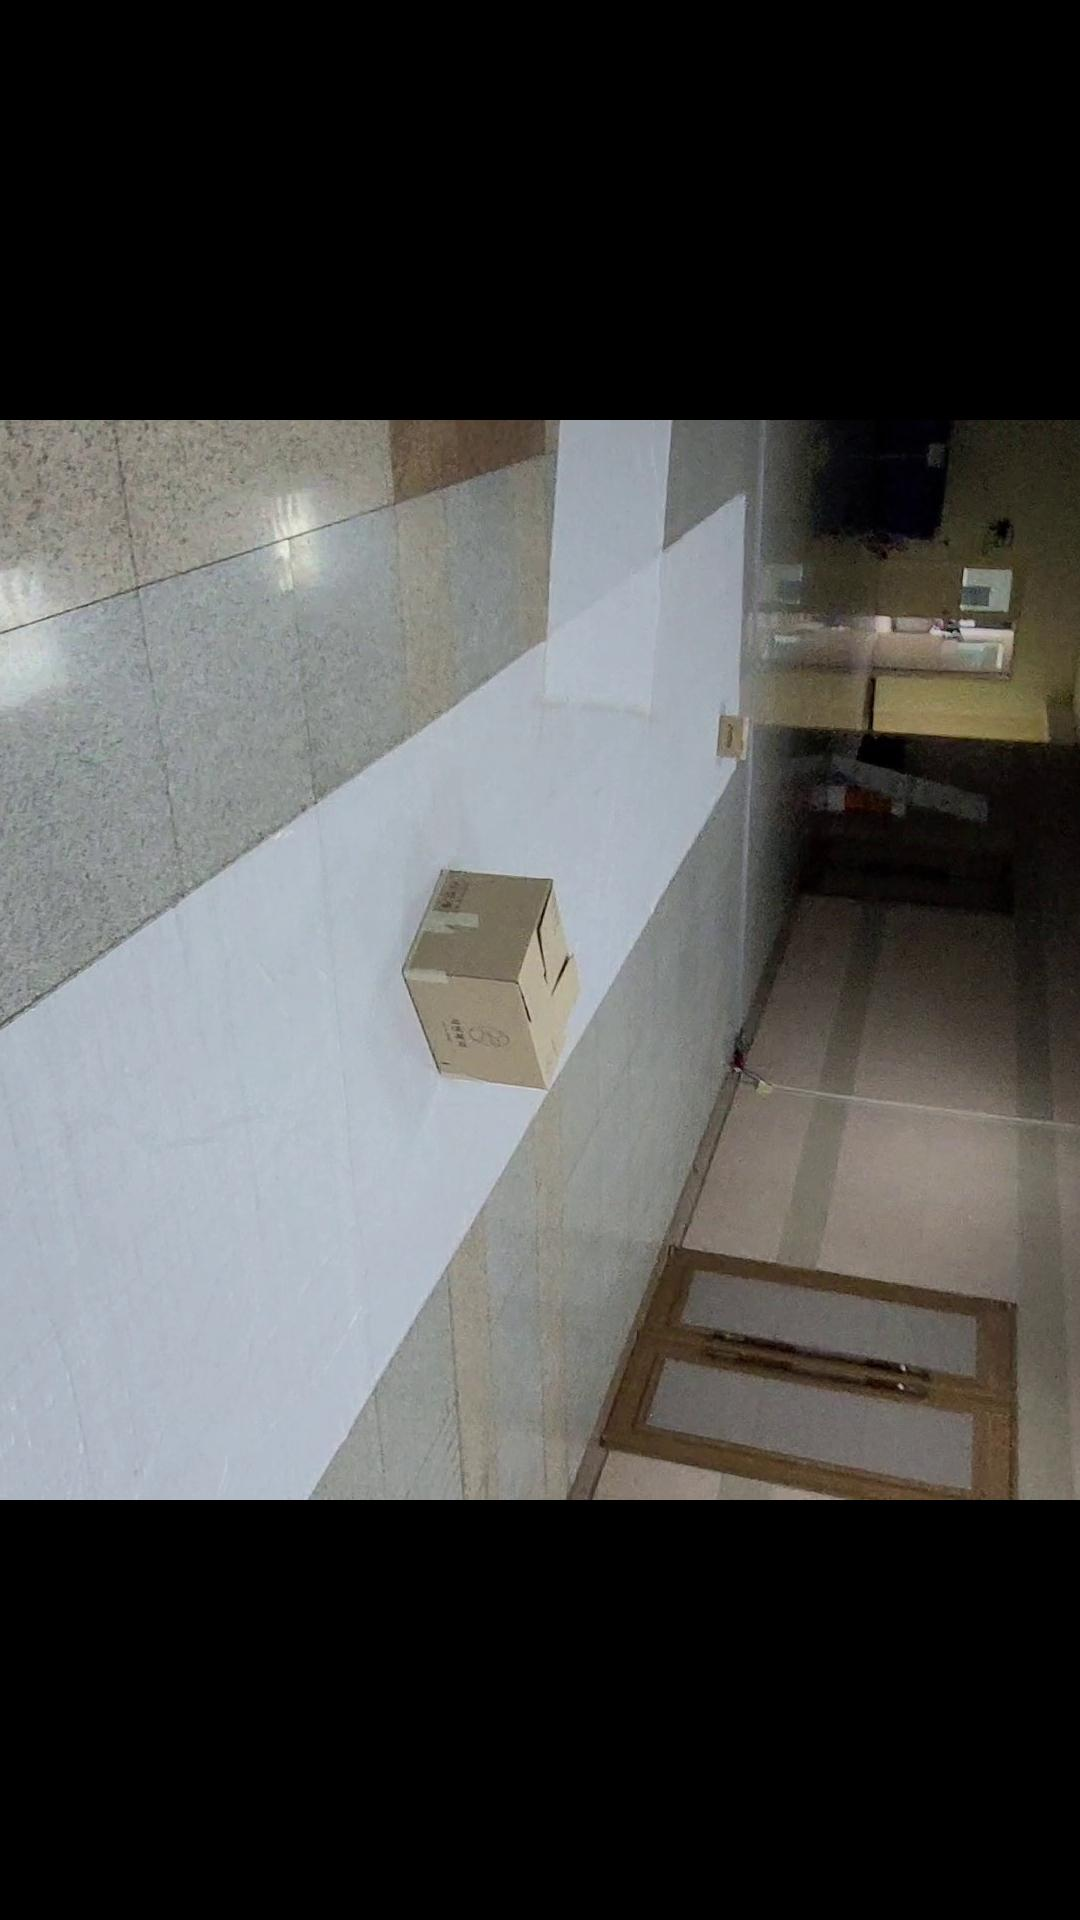Box: (380, 828, 595, 1137), (709, 688, 782, 785)
